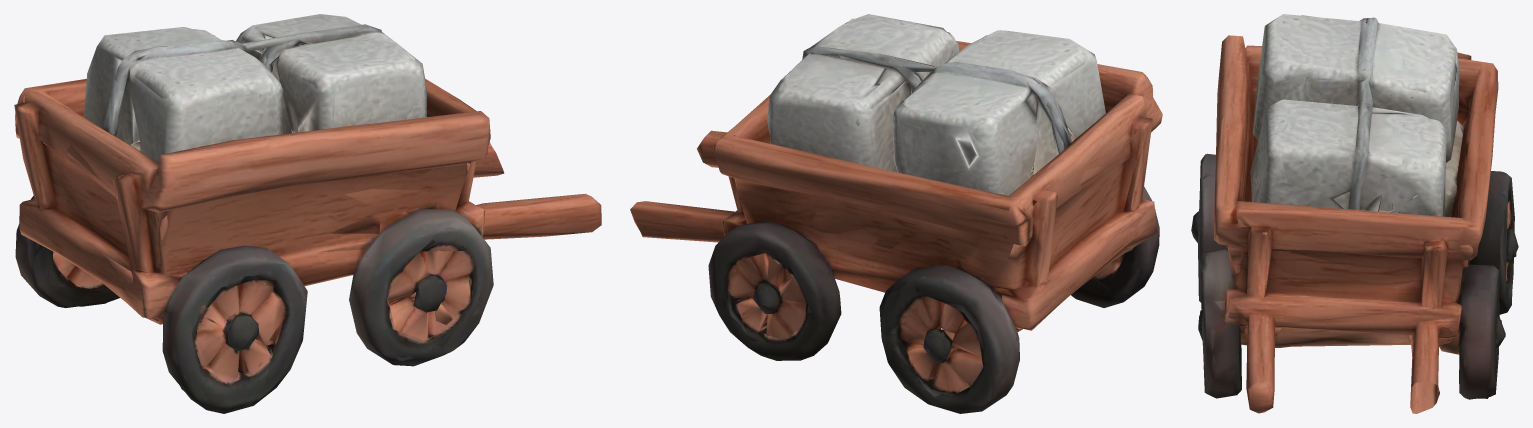
Rendered from sieve-stone-cart.glb.
The picture shows the model from 3 angles, left to right: view 1: azimuth 30°, elevation 25°; view 2: azimuth 150°, elevation 25°; view 3: azimuth 270°, elevation 25°; orthographic projection. The views are drawn at different scales.
Size of the model in its own units: 2 by 1.2 by 1.27.
Materials: 1 (1 with a texture image).
